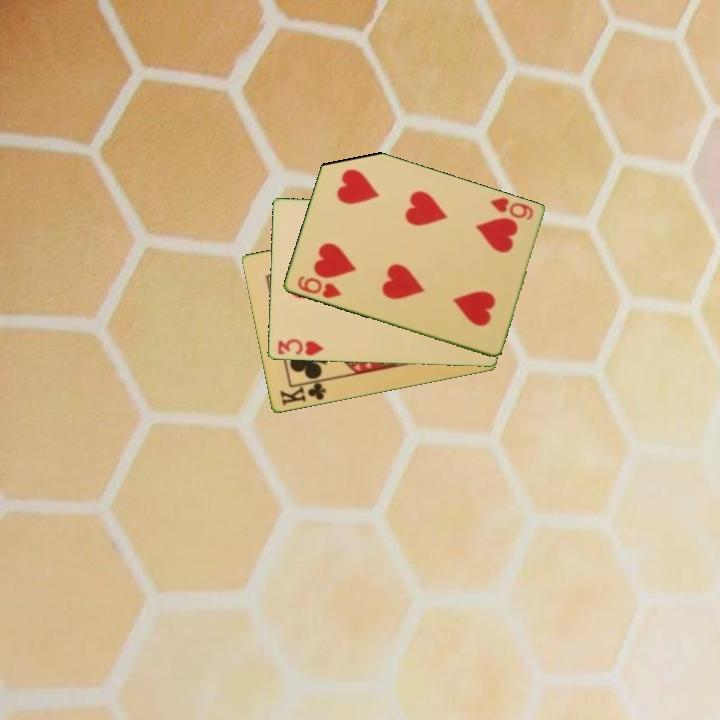3h: (274, 336, 327, 359)
6h: (293, 273, 344, 302), (486, 194, 536, 223)
Kc: (276, 377, 329, 409)
